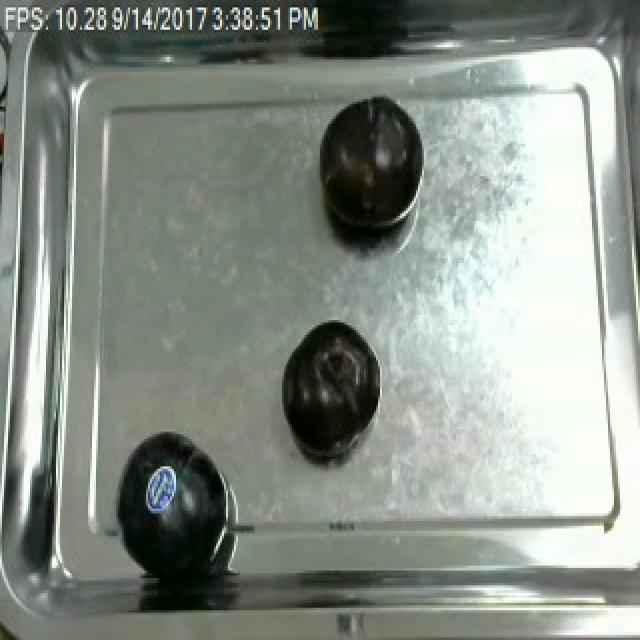Fruit: (110, 424, 232, 586), (312, 89, 424, 241), (276, 315, 374, 456)
